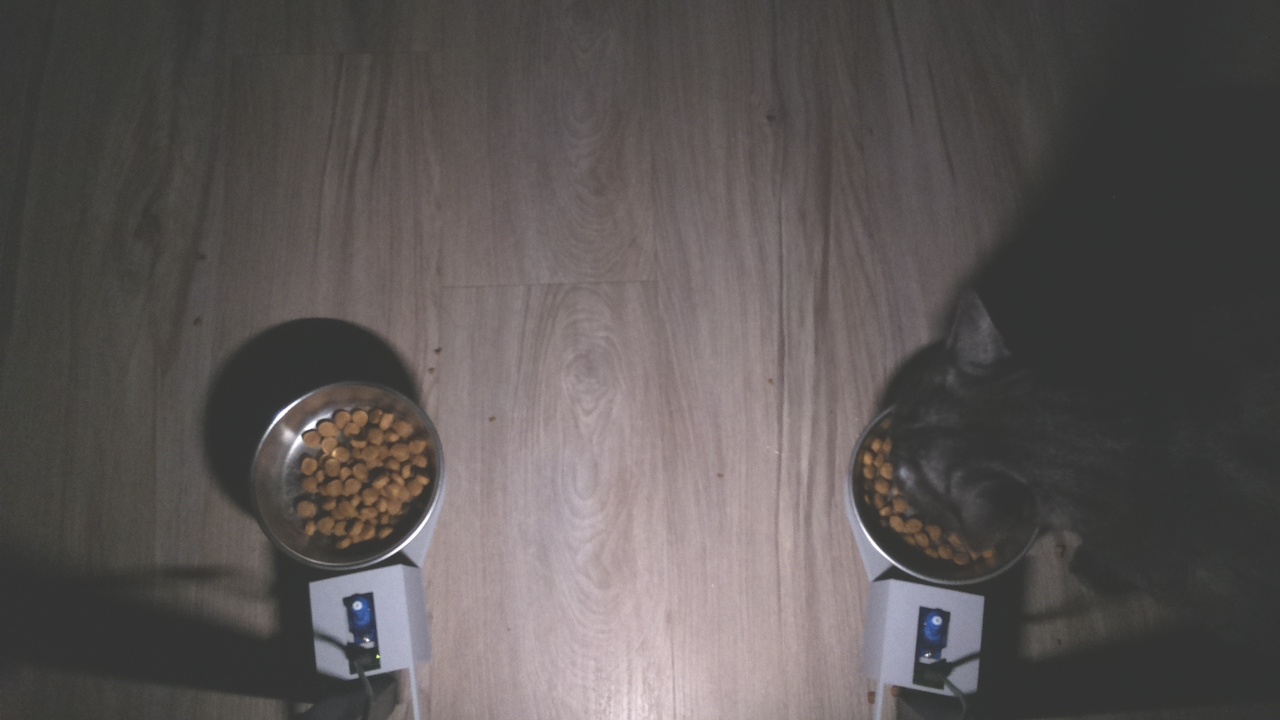open_bowl: (236, 371, 458, 581)
saki_eating: (818, 280, 1101, 596)
